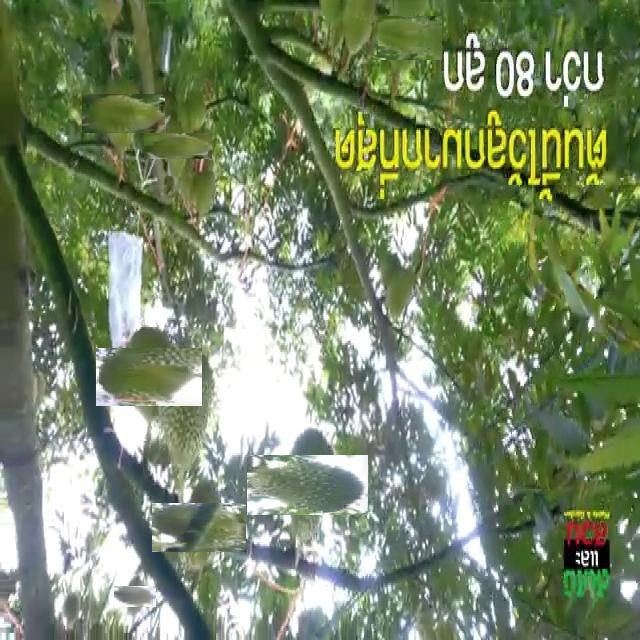durian: (262, 440, 353, 530), (157, 341, 215, 474), (107, 336, 190, 418), (163, 492, 235, 564), (93, 83, 154, 144), (378, 9, 436, 67), (154, 123, 201, 170), (342, 2, 378, 55), (119, 581, 151, 613)
